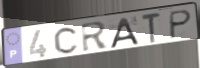4: (28, 28, 49, 60)
A: (108, 16, 141, 50)
C: (53, 25, 80, 55)
P: (168, 9, 194, 41)
R: (80, 20, 111, 54)
T: (140, 12, 163, 45)
